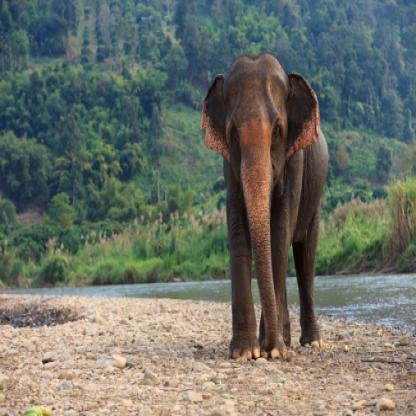Elephas-maximus: (199, 52, 330, 364)
